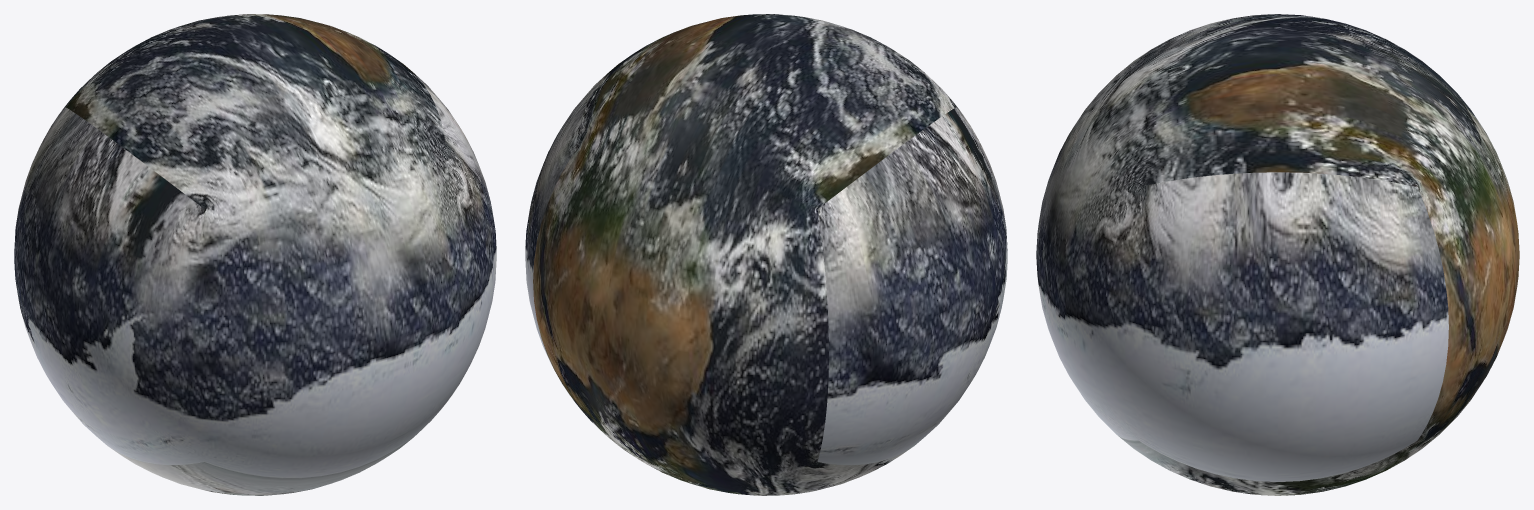
The model's file is pSphereFromCatmullCube.fbx.
The picture shows the model from 3 angles, left to right: view 1: azimuth 30°, elevation 25°; view 2: azimuth 150°, elevation 25°; view 3: azimuth 270°, elevation 25°; orthographic projection.
Parts seen in each view (by area): view 1: pSphereFromCatmullCube; view 2: pSphereFromCatmullCube; view 3: pSphereFromCatmullCube.
Boxes of the visible parts, <box> form: pSphereFromCatmullCube: <box>14,14,496,495</box>; pSphereFromCatmullCube: <box>525,14,1007,495</box>; pSphereFromCatmullCube: <box>1036,14,1519,495</box>.
Size of the model in its own units: 100 by 100 by 100.
1 material, 1 textured.
